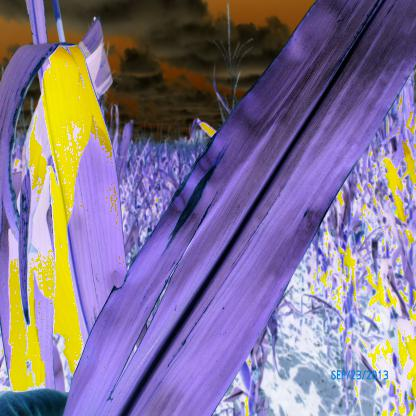corn leaf blight: (70, 8, 406, 416), (1, 38, 135, 389)
